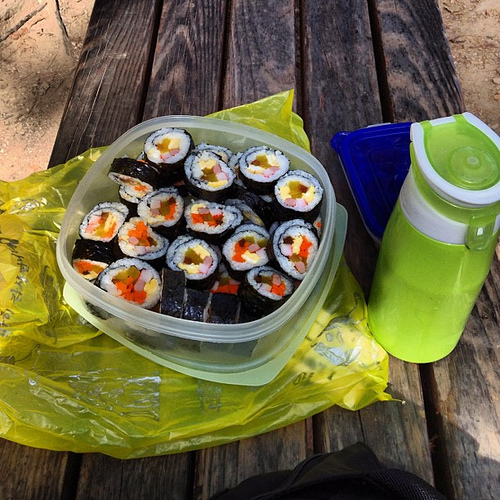gimbab: (70, 123, 326, 327)
